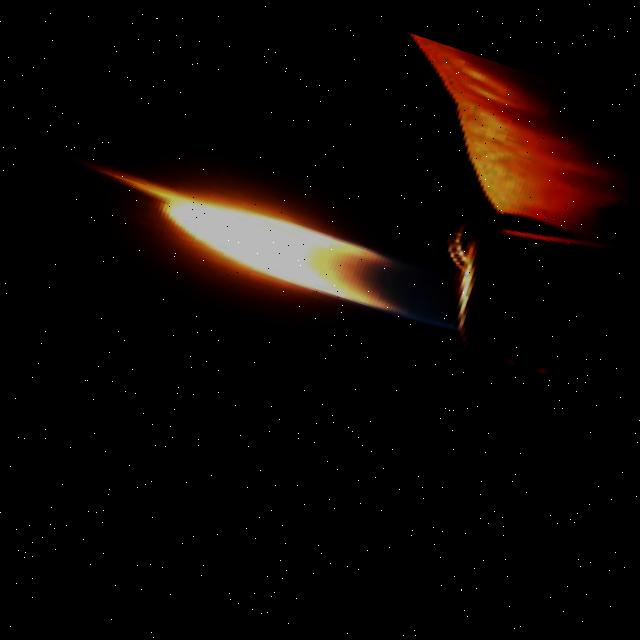Fire: (61, 140, 514, 369)
